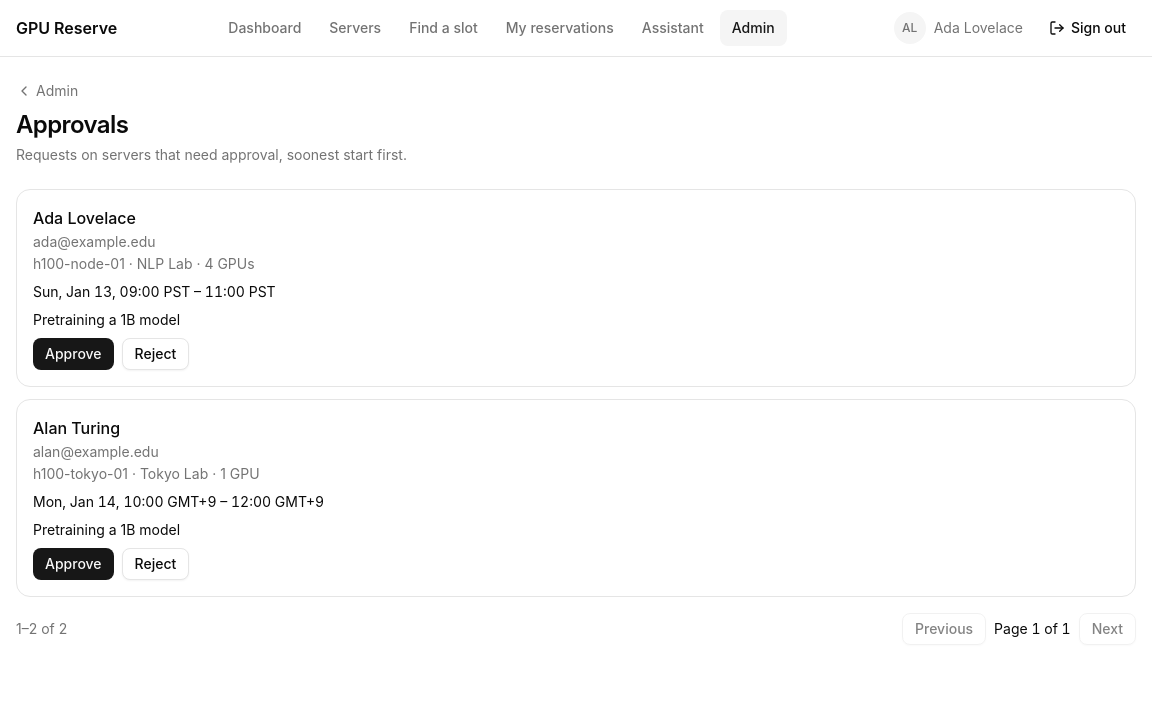
Test case: approval queue › shows a conflict when another admin decided first, then refreshes
Click the button "Approve" below "ada@example.edu" at (73, 354), box [33,338,114,370]
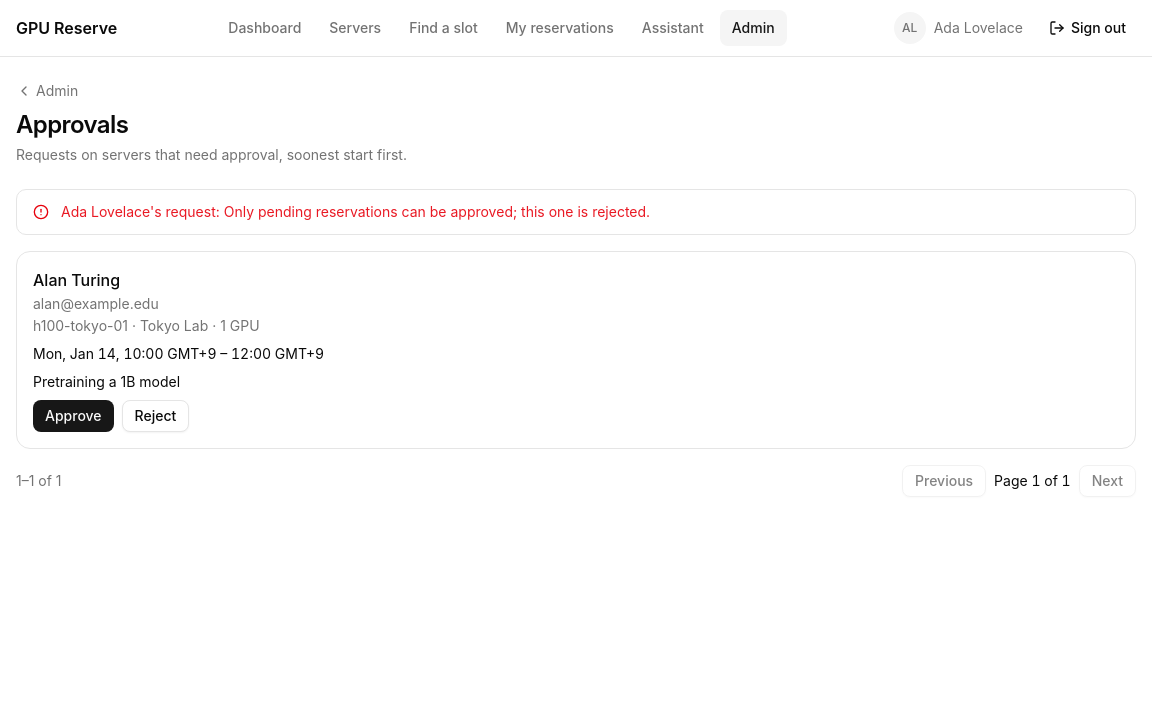
Check: the list item "Alan Turing" is shown, box [16,251,1136,449]
Check: the message shows "Ada Lovelace's request: Only pending reservations can be approved; this one is rejected.", box [61,203,650,220]
